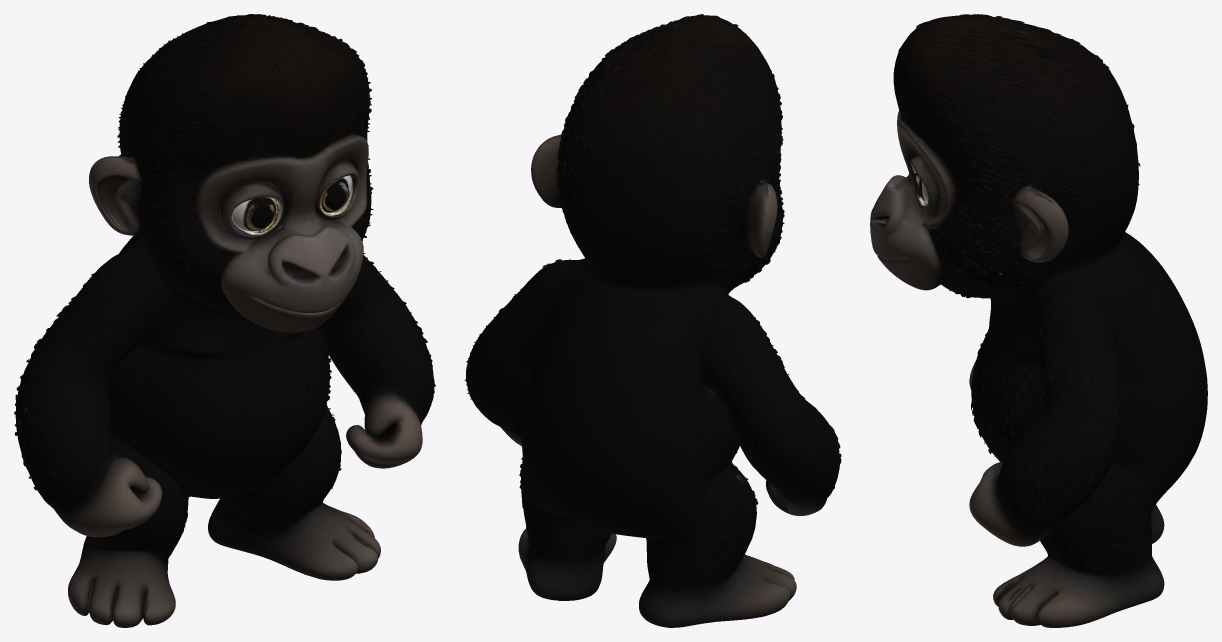
File: khi-dot-con.glb
3 renders of one model, left to right at view 1: azimuth 30°, elevation 25°; view 2: azimuth 150°, elevation 25°; view 3: azimuth 270°, elevation 25°, orthographic. The views are drawn at different scales.
Parts seen in each view (by area): view 1: texture_pbr_v128; view 2: texture_pbr_v128; view 3: texture_pbr_v128.
Boxes of the visible parts, box(x1,y1,x2,y2) form: texture_pbr_v128: box(14, 14, 435, 627); texture_pbr_v128: box(464, 14, 841, 627); texture_pbr_v128: box(870, 14, 1207, 627).
Bounding box in the file's own units: 0.7634 × 1.08 × 0.6013.
Materials: 1 (1 with a texture image).
